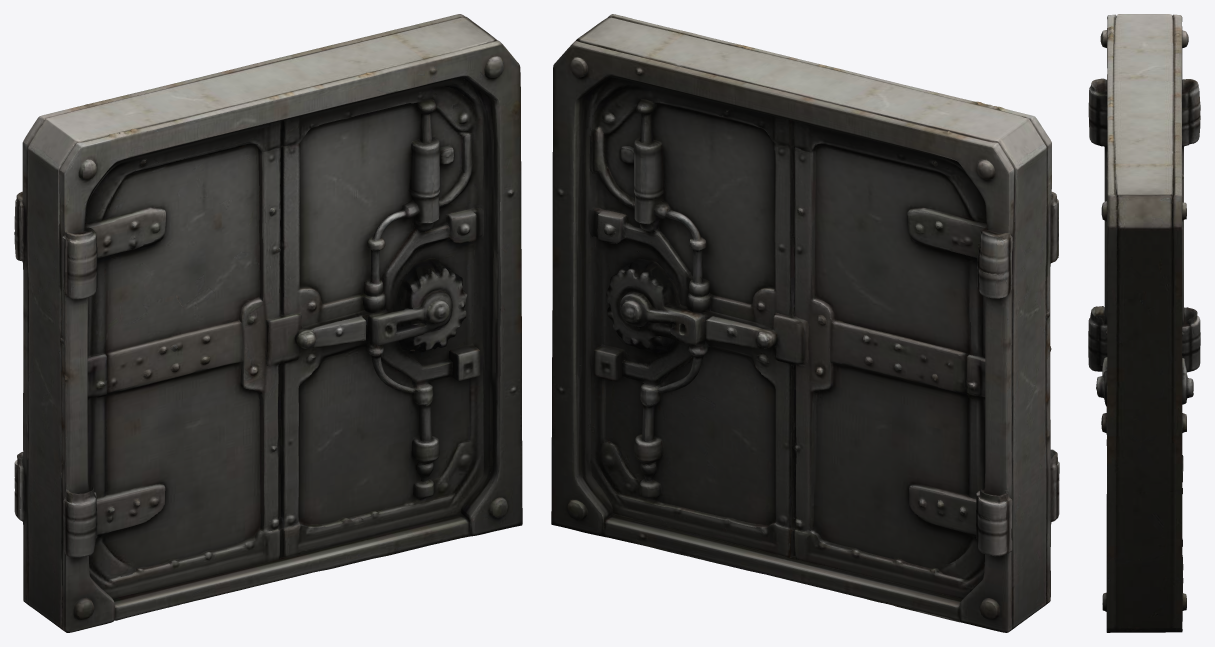
File: trapdoor.fbx
3 views of the same model, side by side, from view 1: azimuth 30°, elevation 25°; view 2: azimuth 150°, elevation 25°; view 3: azimuth 270°, elevation 25° (orthographic). The views are drawn at different scales.
Parts seen in each view (by area): view 1: mesh; view 2: mesh; view 3: mesh.
Part boxes in pixels (bbox=[...]): mesh: bbox=[14, 14, 522, 632]; mesh: bbox=[551, 14, 1059, 632]; mesh: bbox=[1088, 14, 1200, 632].
Size of the model in its own units: 98.7 by 100 by 23.66.
1 material, 1 textured.
